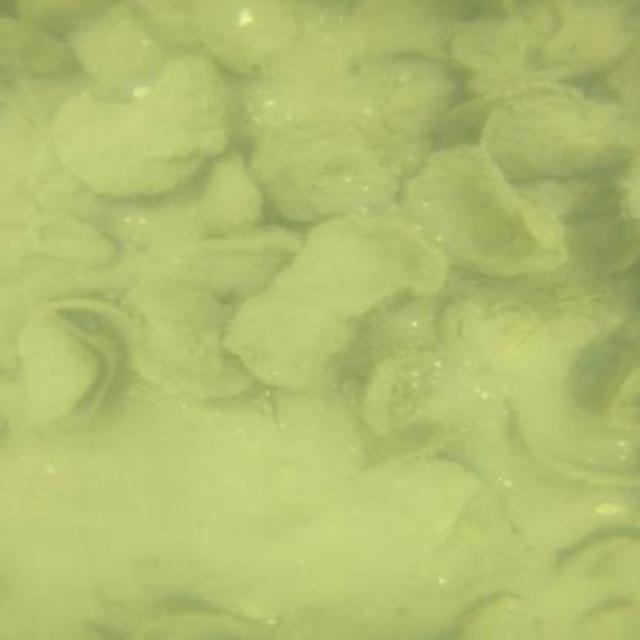Oyster-Closed: (222, 218, 432, 388), (50, 54, 229, 195), (402, 141, 569, 282), (124, 284, 253, 399), (253, 118, 394, 220), (480, 88, 638, 176), (193, 2, 297, 81), (381, 64, 454, 138), (203, 156, 267, 226), (458, 597, 549, 638), (138, 603, 241, 638)
Oyster-Open: (40, 314, 118, 422)
